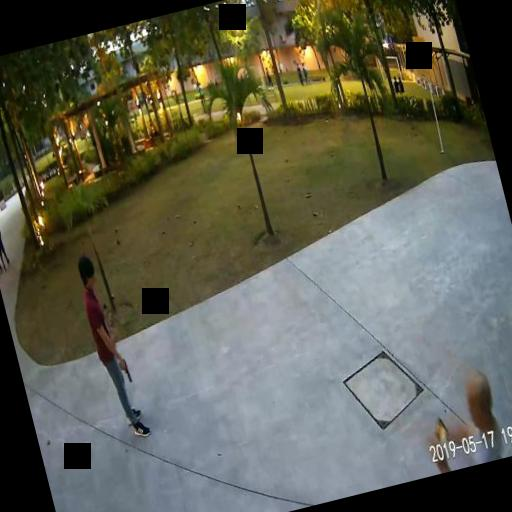Handgun: (116, 356, 130, 384)
